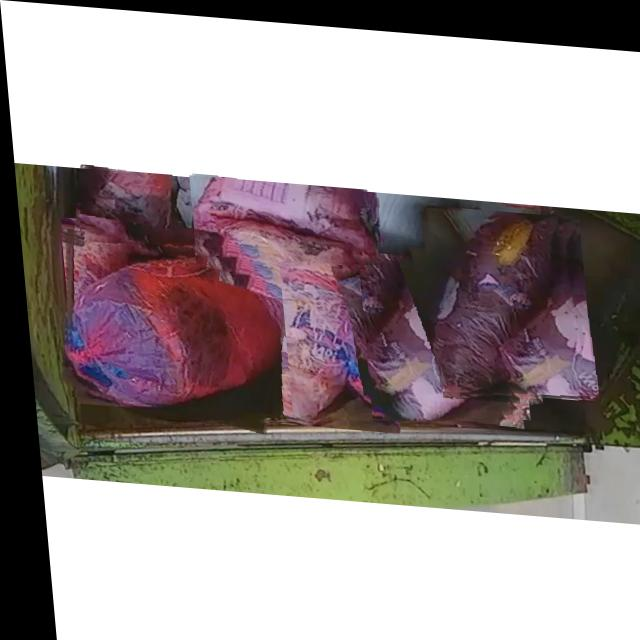other_trashbag: (61, 247, 279, 402), (228, 226, 371, 418), (360, 245, 504, 415), (432, 204, 560, 385), (189, 174, 376, 262), (80, 165, 172, 244)
